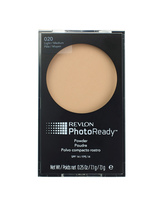other: (36, 26, 132, 181)
